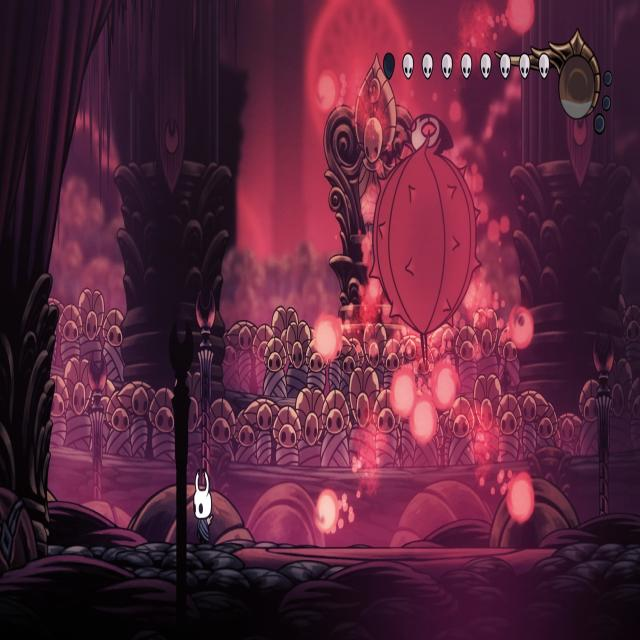Player: (191, 464, 215, 546)
Pufferfish: (368, 107, 484, 384)
Tiny Fireballs: (506, 471, 534, 523), (388, 368, 415, 420), (430, 363, 457, 413), (313, 315, 340, 362), (410, 398, 437, 445), (509, 306, 534, 351), (313, 72, 337, 116), (505, 0, 535, 35), (315, 489, 337, 532)
